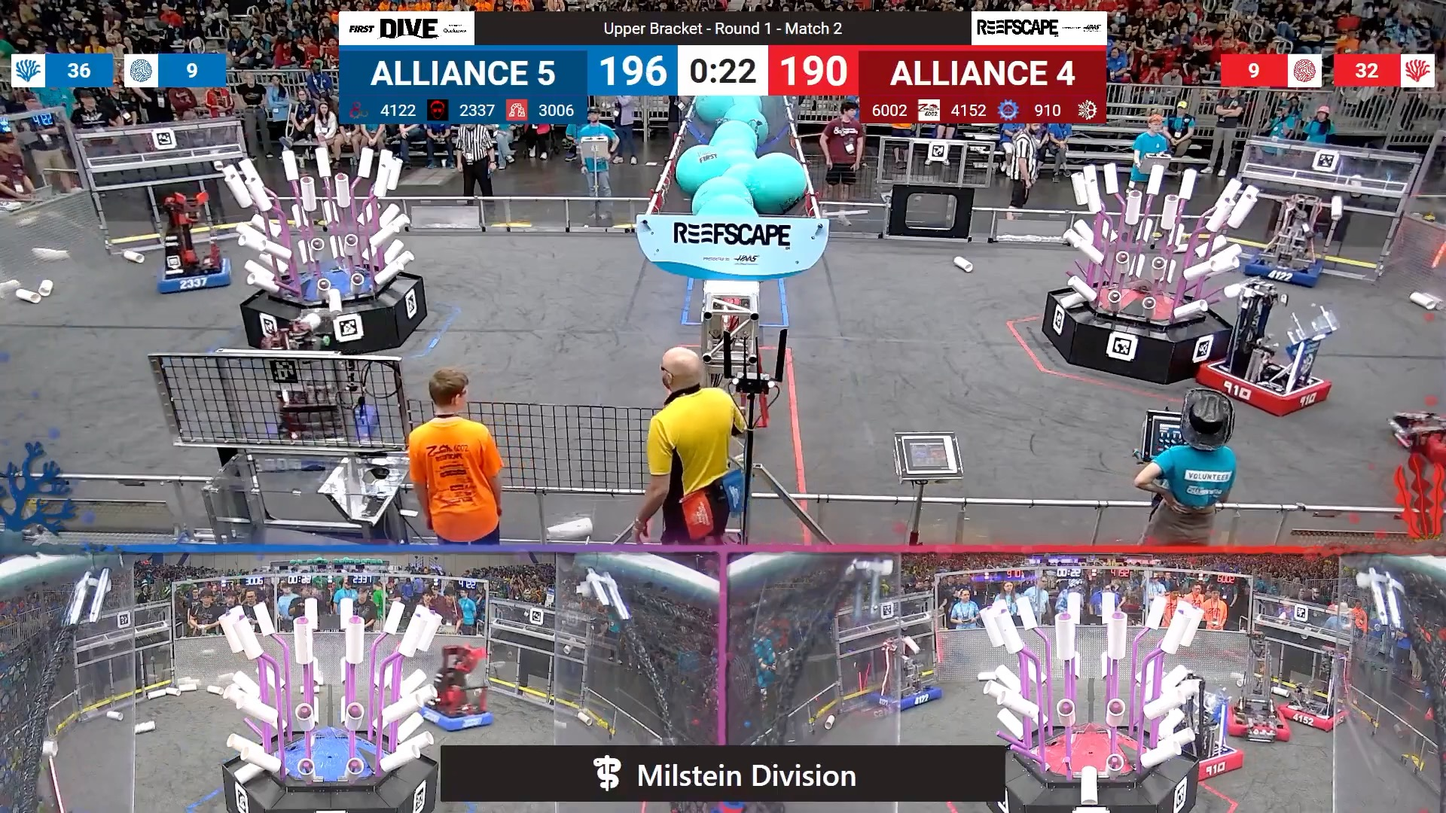bumpers: (1192, 358, 1335, 417), (145, 255, 236, 298), (1231, 251, 1329, 287), (410, 699, 499, 736), (1175, 742, 1249, 784), (1270, 696, 1353, 733), (865, 684, 947, 715)
